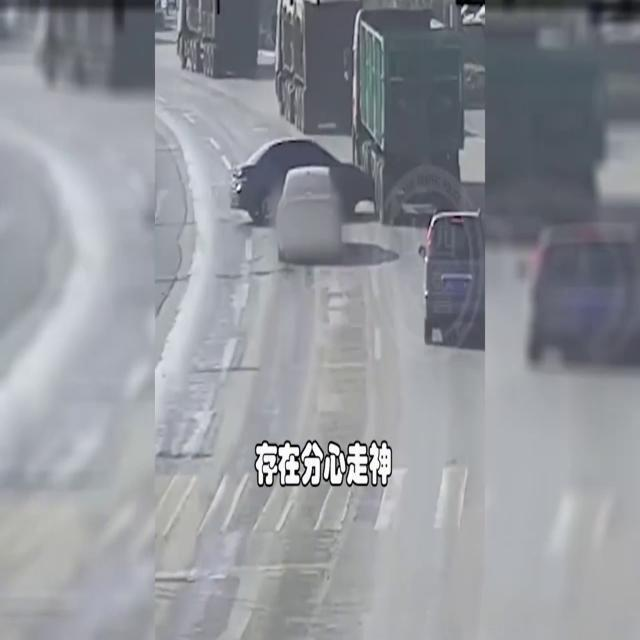accident: (231, 6, 464, 224)
